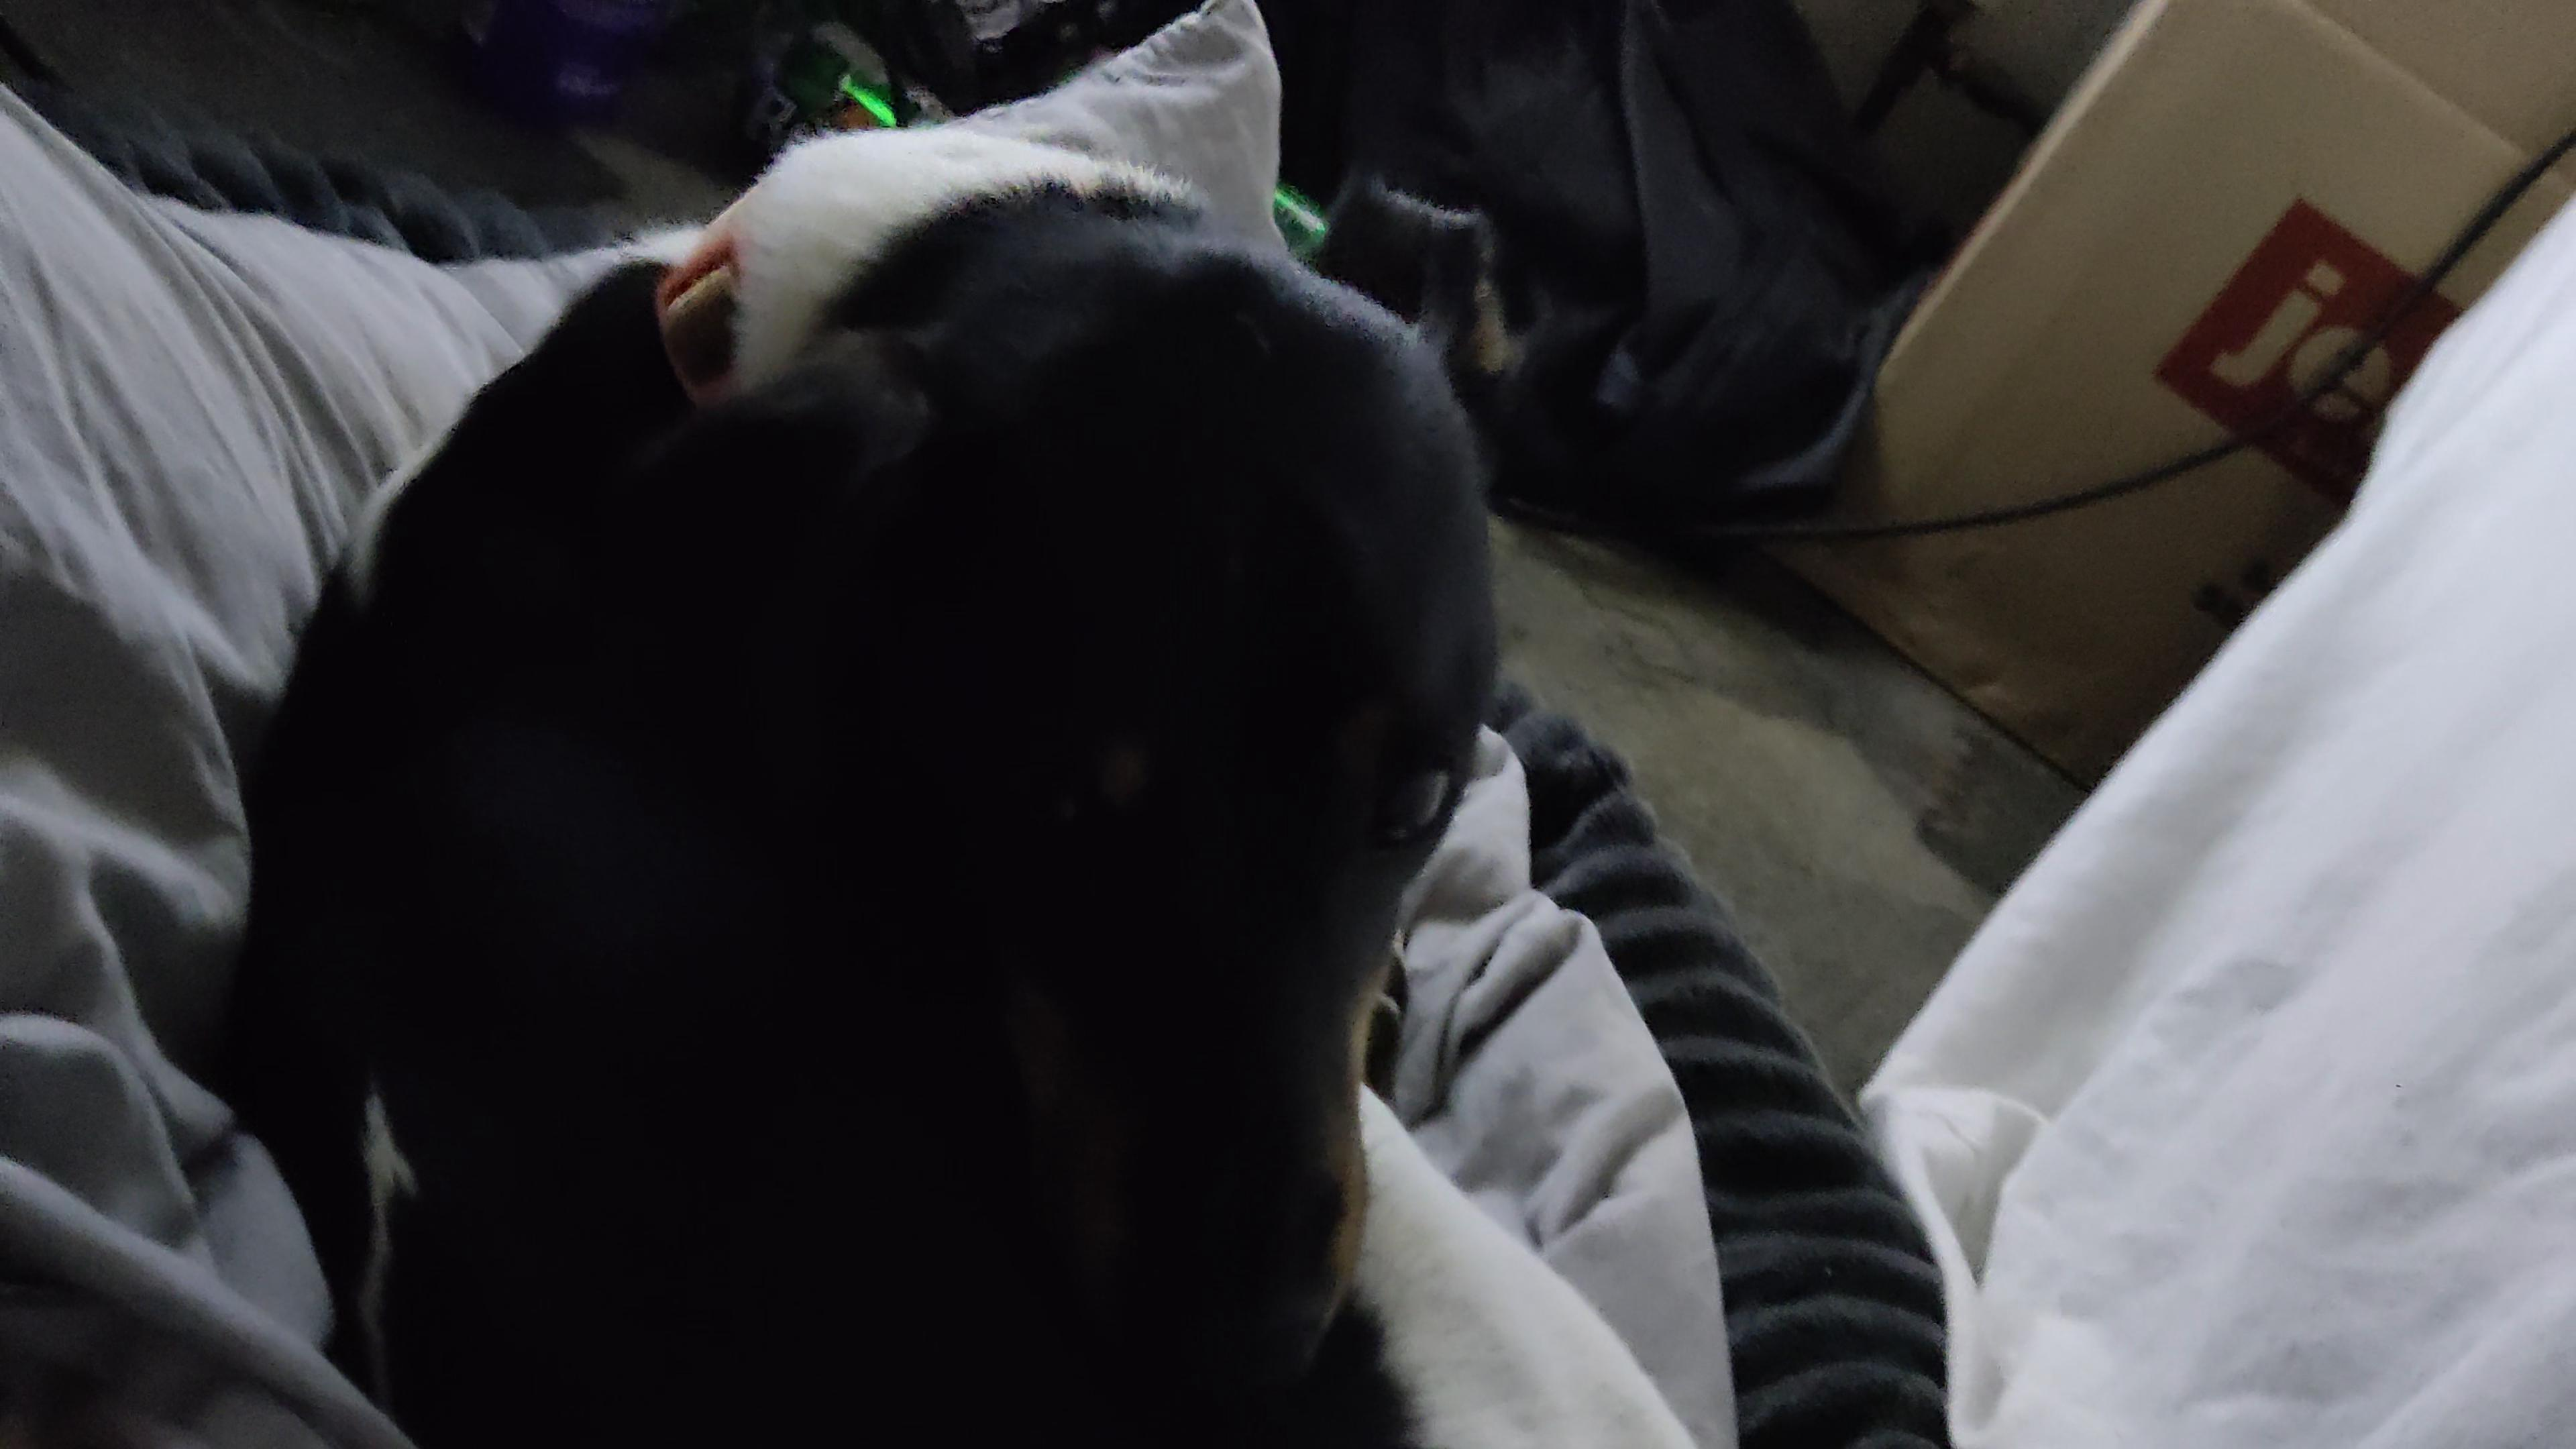Dog: (241, 117, 1704, 1449)
